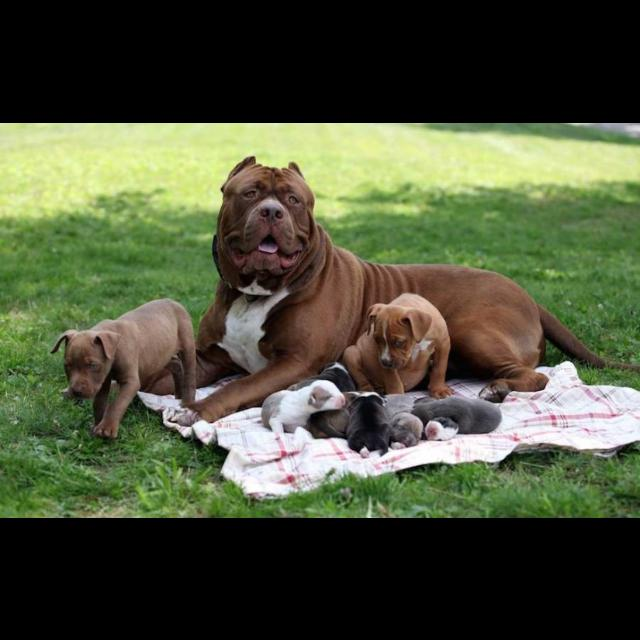am_pit_bull_terrier: (161, 155, 639, 428), (51, 298, 199, 440), (345, 292, 454, 402), (263, 380, 346, 438), (414, 397, 506, 441), (349, 395, 393, 460), (385, 395, 426, 451), (288, 362, 357, 393), (307, 412, 354, 437)
